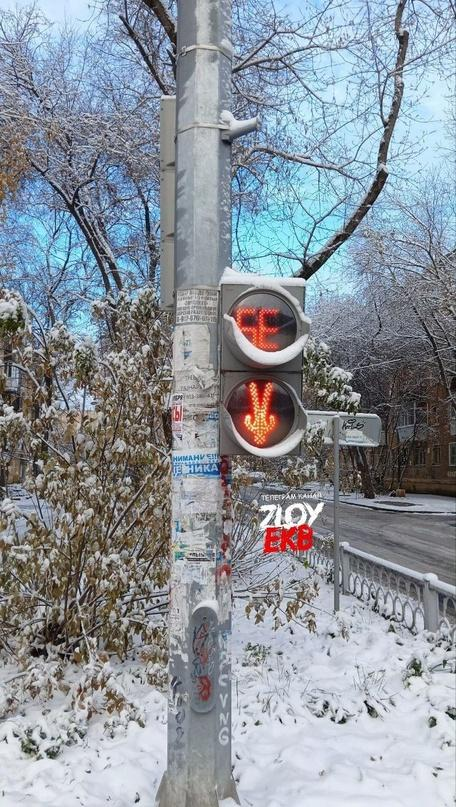off traffic light: (220, 268, 309, 458)
